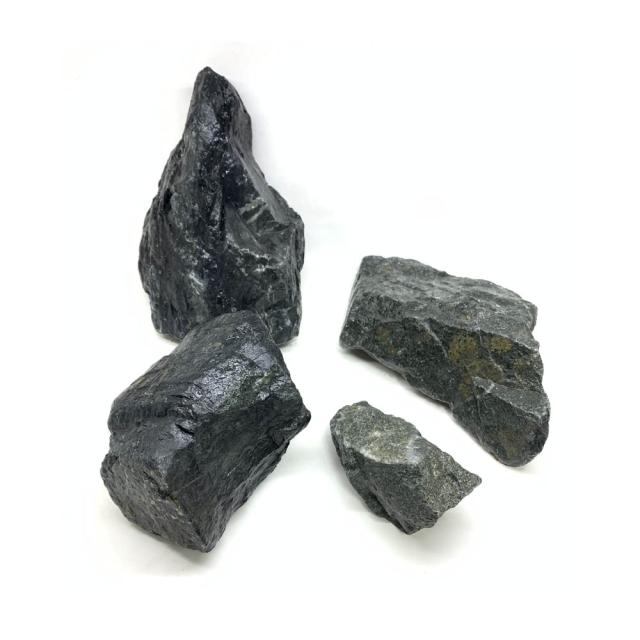Igneous: (88, 305, 313, 566), (121, 63, 317, 336), (341, 232, 558, 466), (320, 396, 484, 552)
